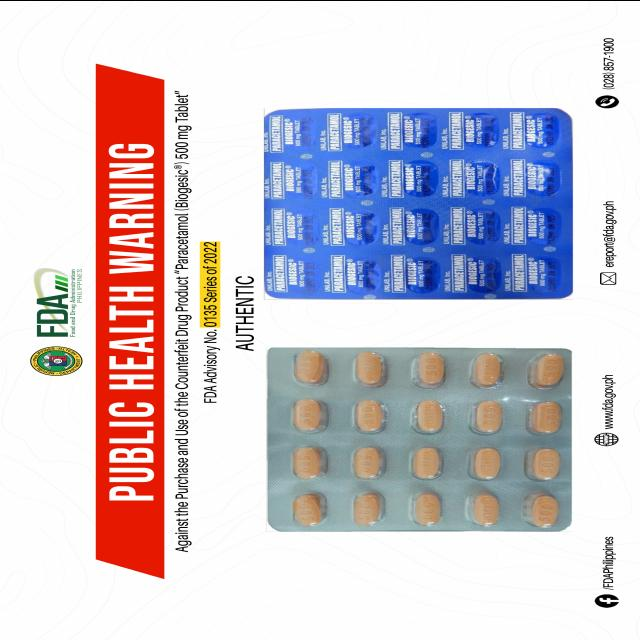authentic: (262, 104, 574, 301), (261, 348, 579, 534)
